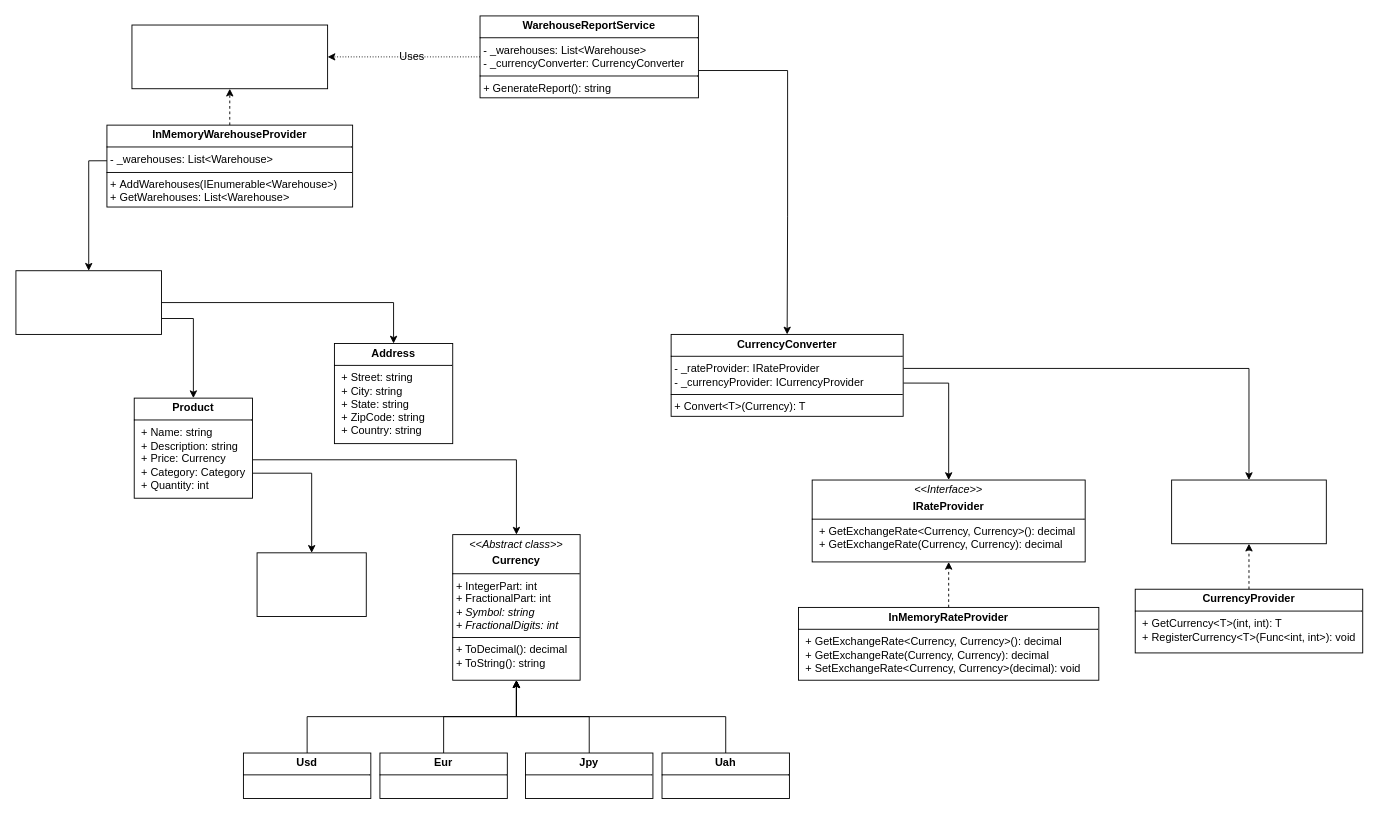
The diagram is 1379 pixels wide and 814 high, and some of its shapes have lost their labels. The shapes that lost their labels are listed below. From the top down, each one's box as (x1, y1, x2, y2) in pixels, then its label:
(131, 24, 328, 89): <<Interface>> IWarehouseProvider + GetWarehouses: List<Warehouse>
(15, 270, 162, 334): Warehouse + Location: Address + Products: List< Product >
(1171, 479, 1326, 544): <<Interface>> ICurrencyProvider + GetCurrency<T>(int, int): T
(256, 552, 366, 617): Category + Name: string + Description: string
